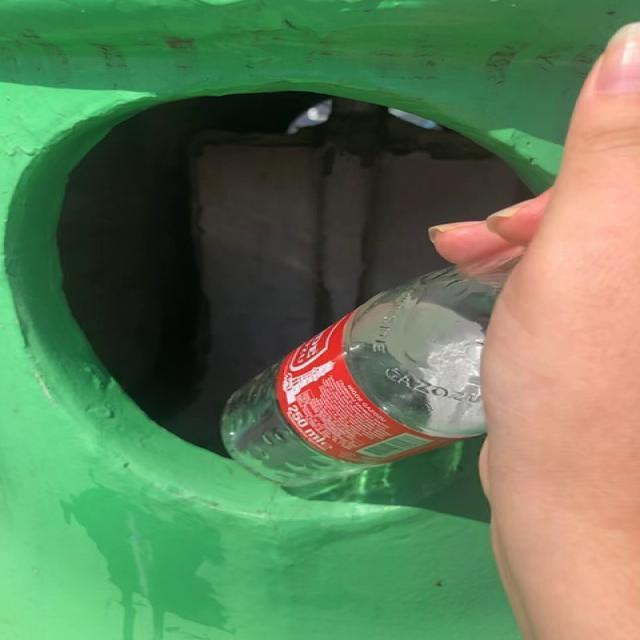Glass: (221, 267, 506, 490)
